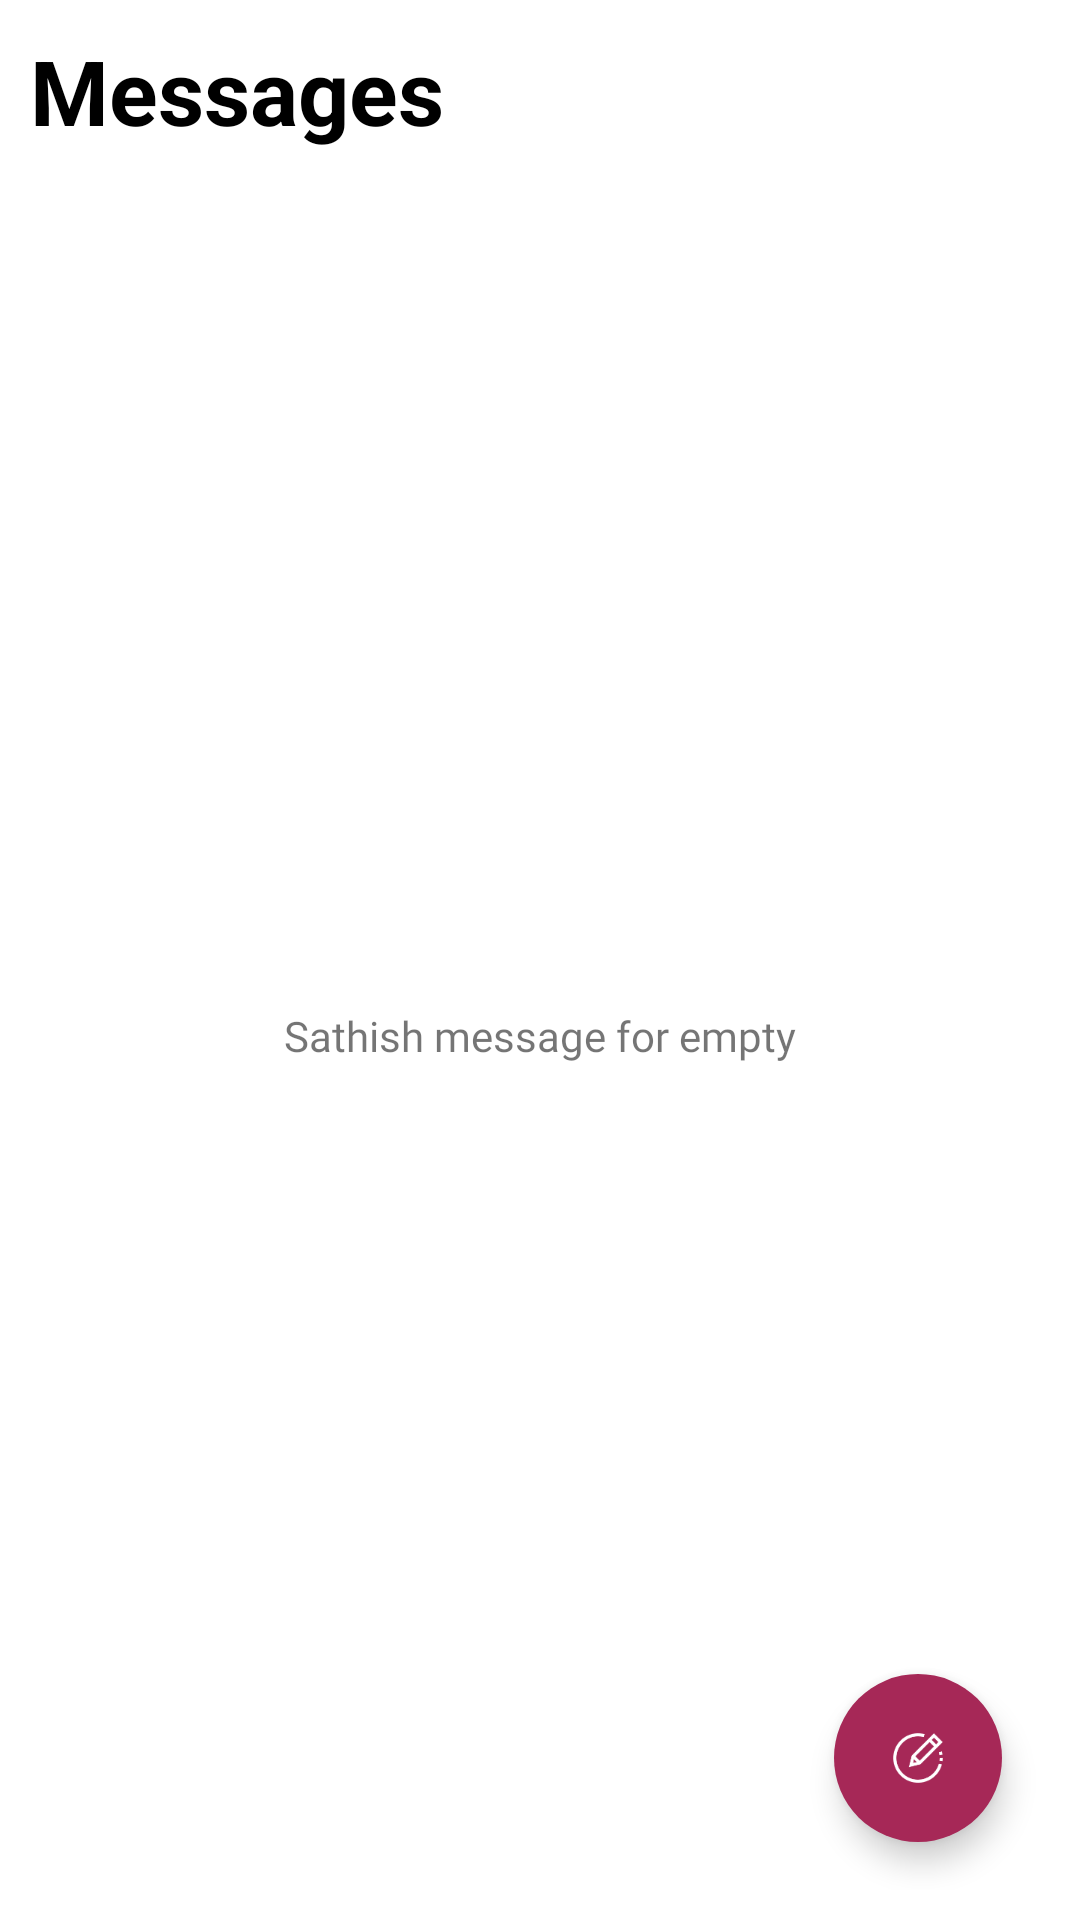

Locate icon controls on the screen. Image size 1080×1920, boxes as (x1,y1,x2,y2).
compose: (834,1674,1002,1842)
